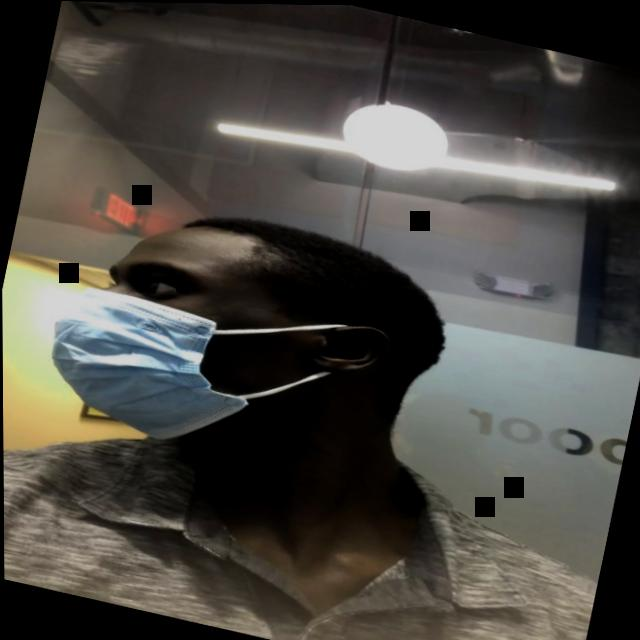Mask: (38, 202, 401, 481)
